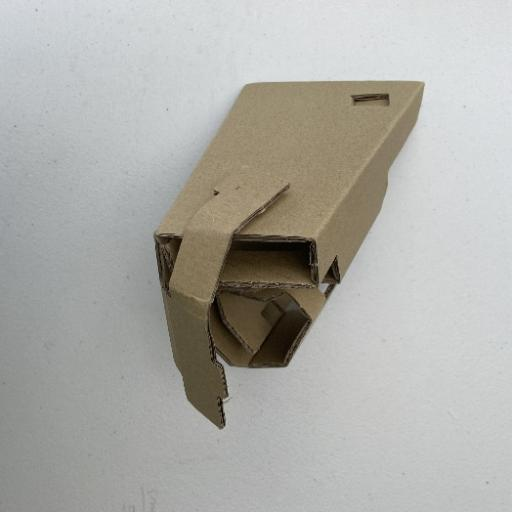Cardboard: (151, 77, 427, 430)
